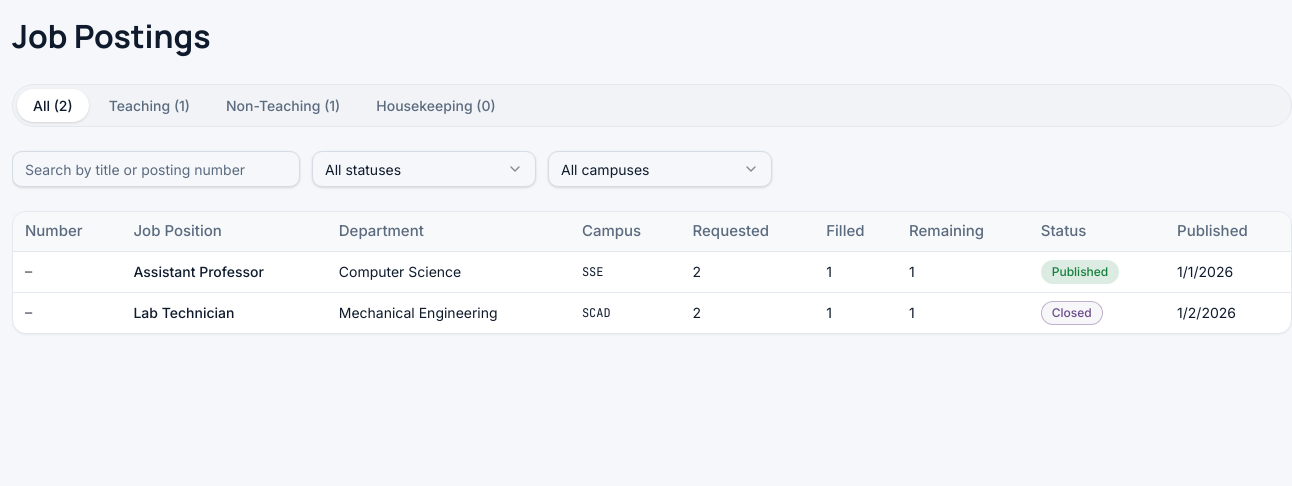
Scenario: JobPostingsListPage › narrows the list client-side by active/closed status
expect the link "Assistant Professor" is shown: met, box top-left (134, 263), bottom-right (264, 280)
Step 1. Click the dropdown named "Status filter" → [424, 169], box top-left (312, 151), bottom-right (536, 187)
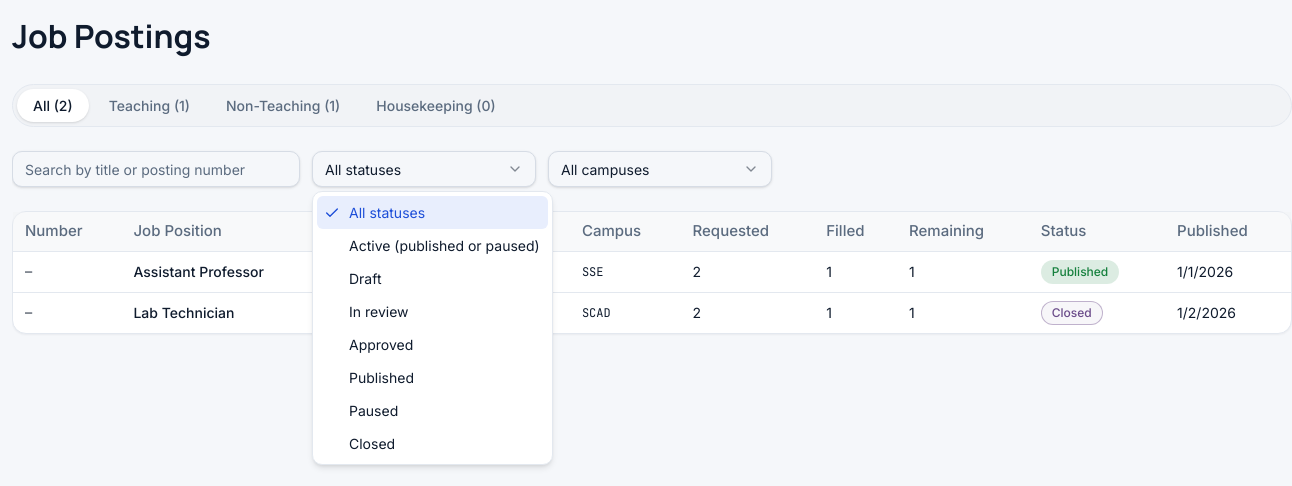
Step 2. Click the option "Closed" → [372, 444], box top-left (349, 435), bottom-right (395, 452)
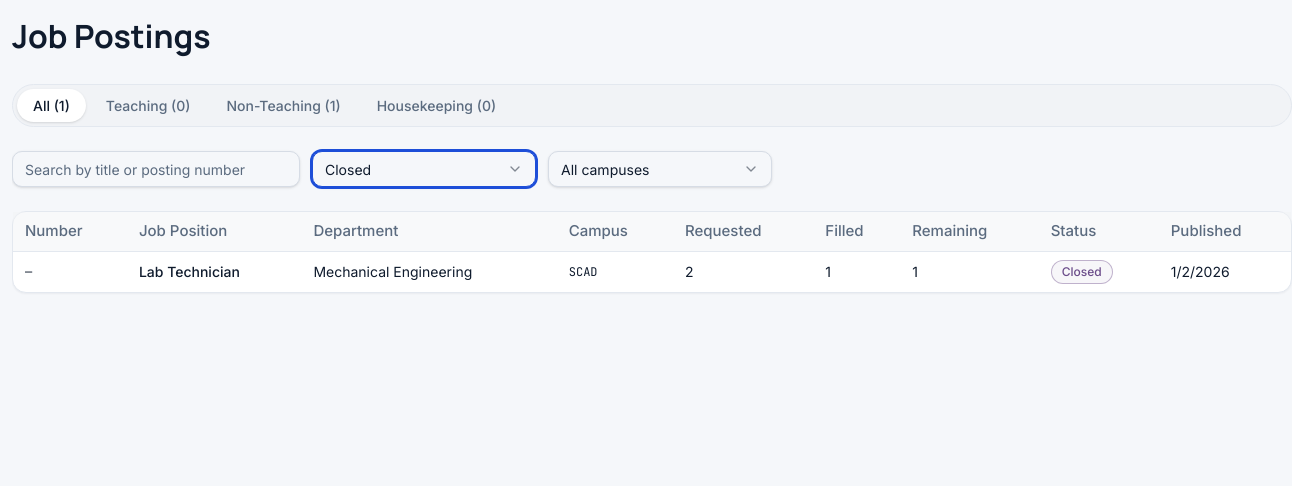
expect the link "Lab Technician" is shown: met, box top-left (139, 263), bottom-right (240, 280)
expect the link "Assistant Professor" is gone: met
